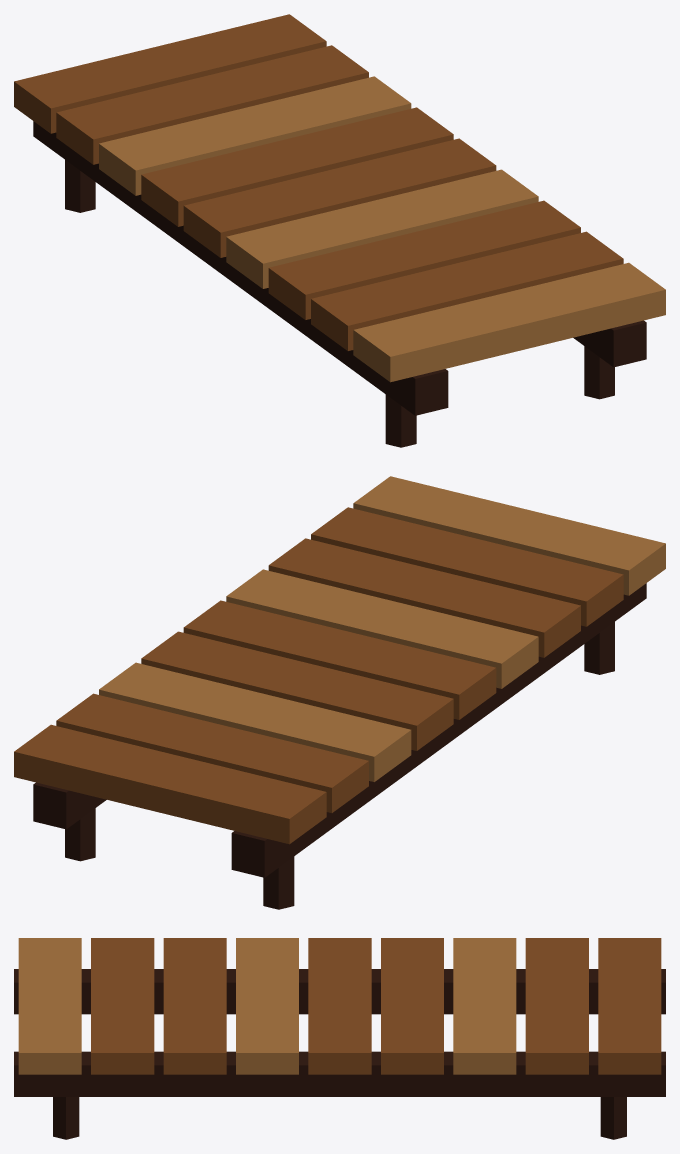
The model's file is Extra_Bridge_01.fbx.
3 renders of one model, top to bottom at view 1: azimuth 30°, elevation 25°; view 2: azimuth 150°, elevation 25°; view 3: azimuth 270°, elevation 25°, orthographic. The views are drawn at different scales.
Parts seen in each view (by area): view 1: Extra_Bridge_01_Mesh; view 2: Extra_Bridge_01_Mesh; view 3: Extra_Bridge_01_Mesh.
Part boxes in pixels (x1,y1,x2,y2): Extra_Bridge_01_Mesh: (14,14,665,447); Extra_Bridge_01_Mesh: (14,476,665,909); Extra_Bridge_01_Mesh: (14,938,665,1139).
Size of the model in its own units: 1.25 by 0.49 by 3.
Materials: 1 (1 with a texture image).
